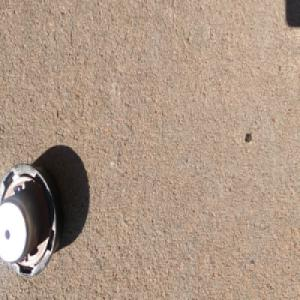FuelCap: (0, 158, 64, 279)
